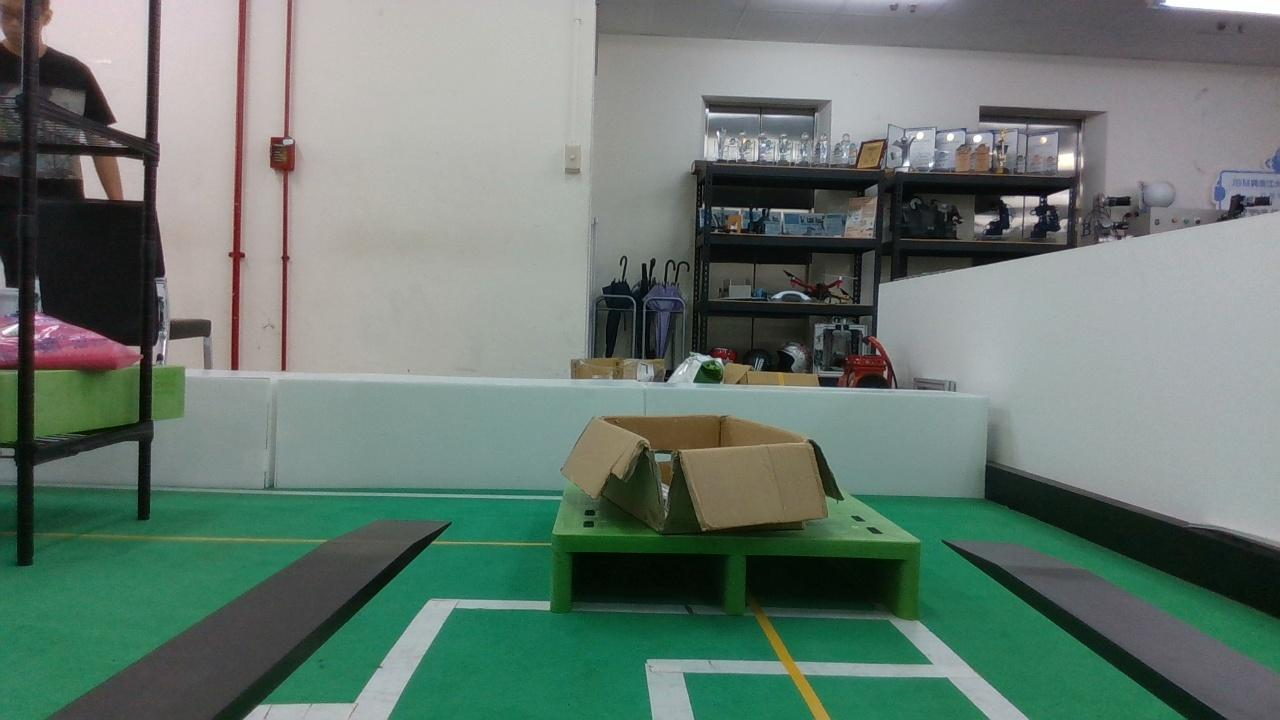Pallet: (558, 523, 930, 627)
